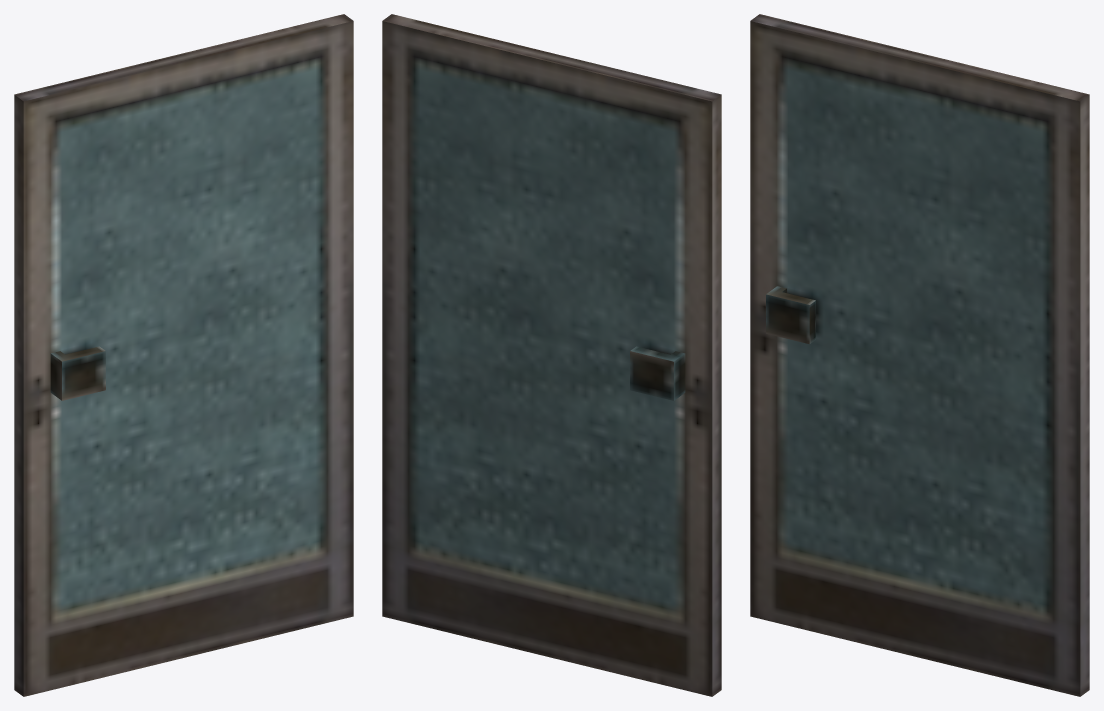
The model's file is DoorResidential02.obj.
3 views of the same model, side by side, from view 1: azimuth 30°, elevation 25°; view 2: azimuth 150°, elevation 25°; view 3: azimuth 330°, elevation 25° (orthographic).
Visible parts, largest first — view 1: DoorResidential02; view 2: DoorResidential02; view 3: DoorResidential02.
Part boxes in pixels (left/top/right/bottom): DoorResidential02: left=14, top=14, right=353, bottom=696; DoorResidential02: left=382, top=14, right=721, bottom=696; DoorResidential02: left=750, top=14, right=1089, bottom=696.
Bounding box in the file's own units: 1.74 × 3 × 0.2931.
